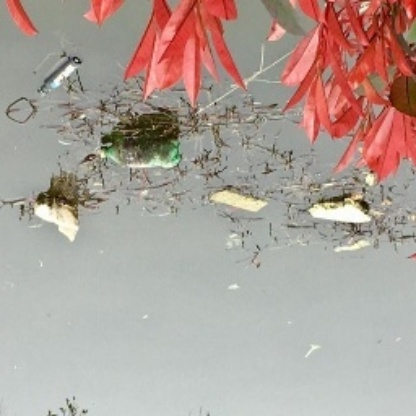bottle: (96, 138, 181, 171)
plastic-garbage: (305, 190, 382, 228)
